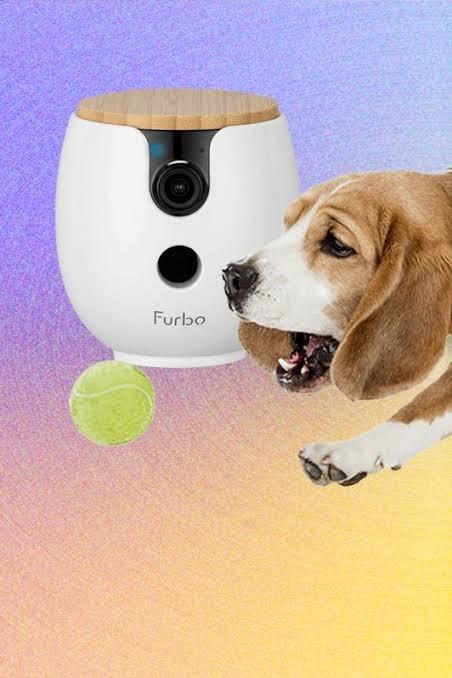adult_dog: (222, 167, 452, 486)
